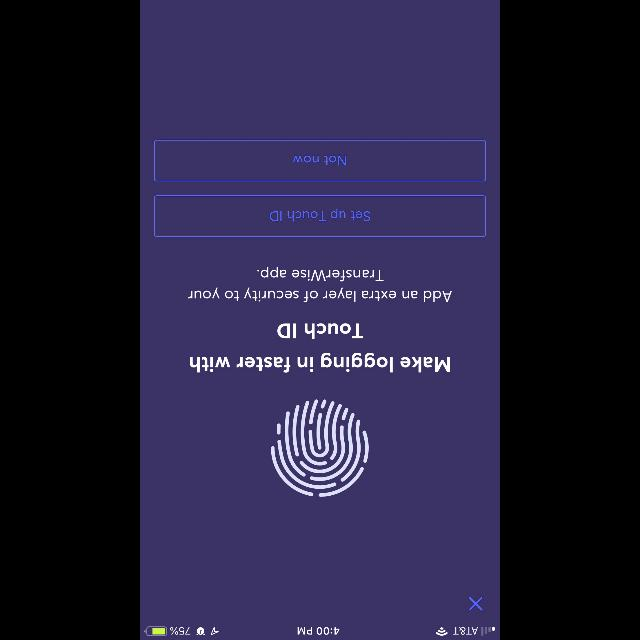icon: (468, 596, 482, 610)
image: (271, 399, 369, 497)
text: (190, 323, 450, 372), (188, 266, 452, 302)
textbutton: (154, 195, 486, 237), (154, 140, 486, 182)
uppertaskbar: (140, 626, 500, 640)
